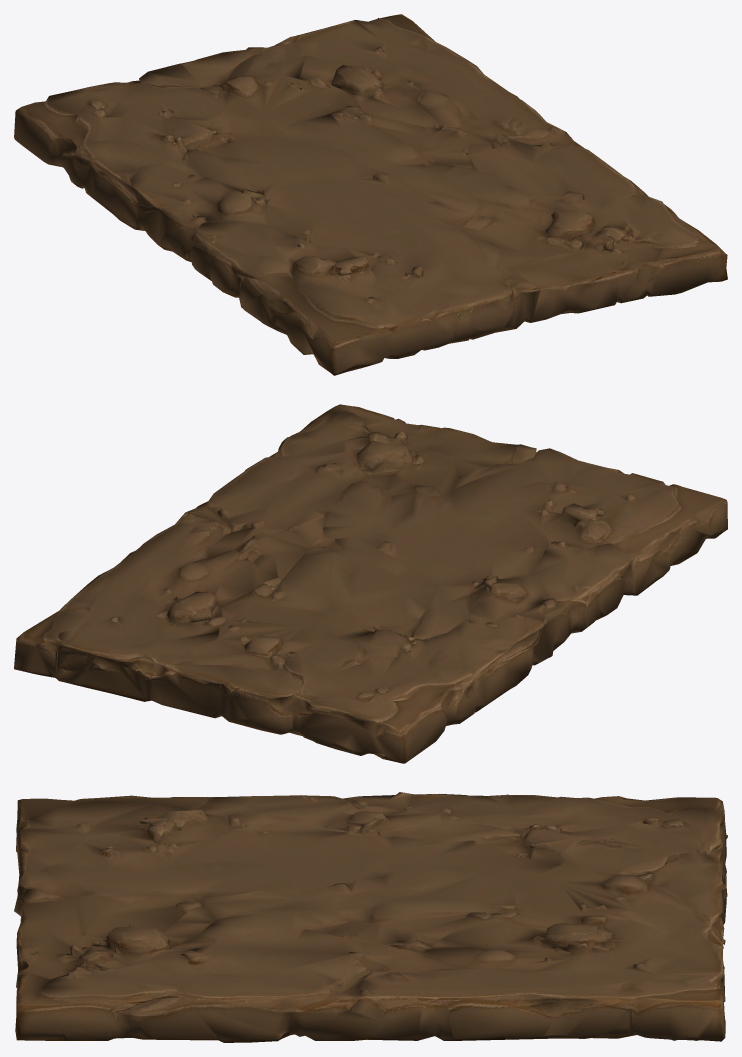
The model's file is baldosa_de_tierra.glb.
3 renders of one model, top to bottom at view 1: azimuth 30°, elevation 25°; view 2: azimuth 150°, elevation 25°; view 3: azimuth 270°, elevation 25°, orthographic. The views are drawn at different scales.
Parts seen in each view (by area): view 1: baldosa_de_tierra; view 2: baldosa_de_tierra; view 3: baldosa_de_tierra.
Boxes of the visible parts, x1=… form: baldosa_de_tierra: x1=14, y1=14, x2=727, y2=375; baldosa_de_tierra: x1=14, y1=404, x2=727, y2=763; baldosa_de_tierra: x1=14, y1=792, x2=727, y2=1042.
Size of what is drawn, in the model's own units: 0.8446 by 0.1072 by 1.2.
Materials: 1 (1 with a texture image).
